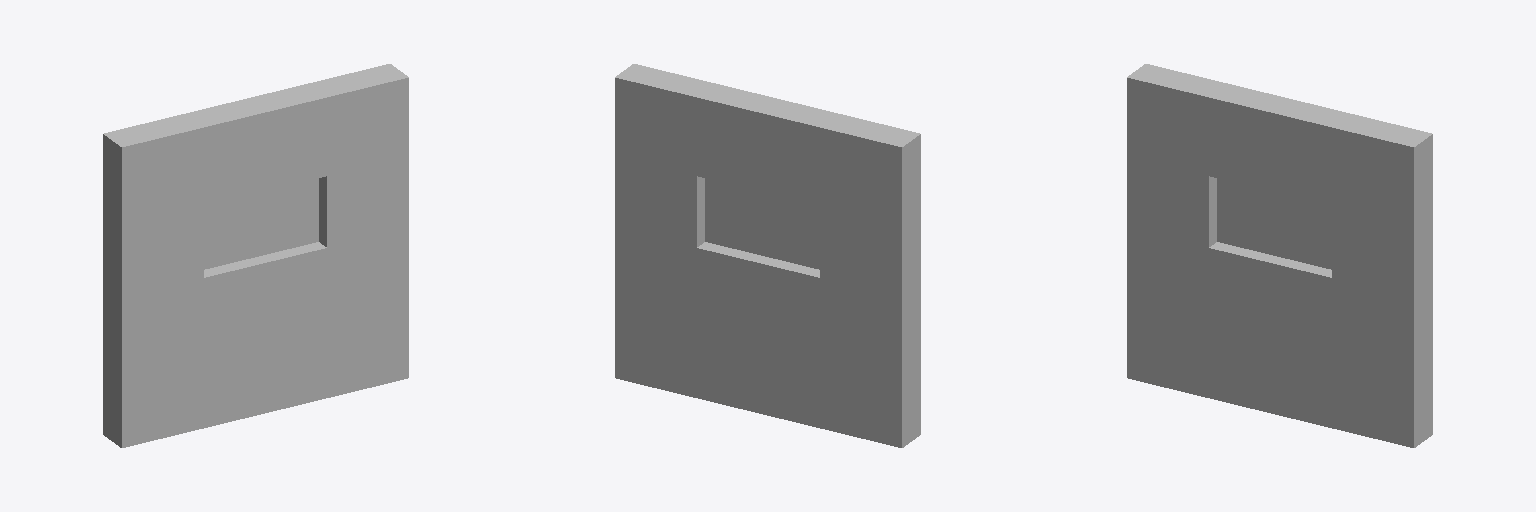
The model's file is concrete_small_window_1.obj.
3 renders of one model, left to right at view 1: azimuth 30°, elevation 25°; view 2: azimuth 150°, elevation 25°; view 3: azimuth 330°, elevation 25°, orthographic.
Visible parts, largest first — view 1: concrete_small_window_1; view 2: concrete_small_window_1; view 3: concrete_small_window_1.
Part boxes in pixels (bbox=[...]): concrete_small_window_1: bbox=[103, 64, 408, 447]; concrete_small_window_1: bbox=[615, 64, 920, 447]; concrete_small_window_1: bbox=[1127, 64, 1432, 447].
Bounding box in the file's own units: 3.5 × 3.5 × 0.4.